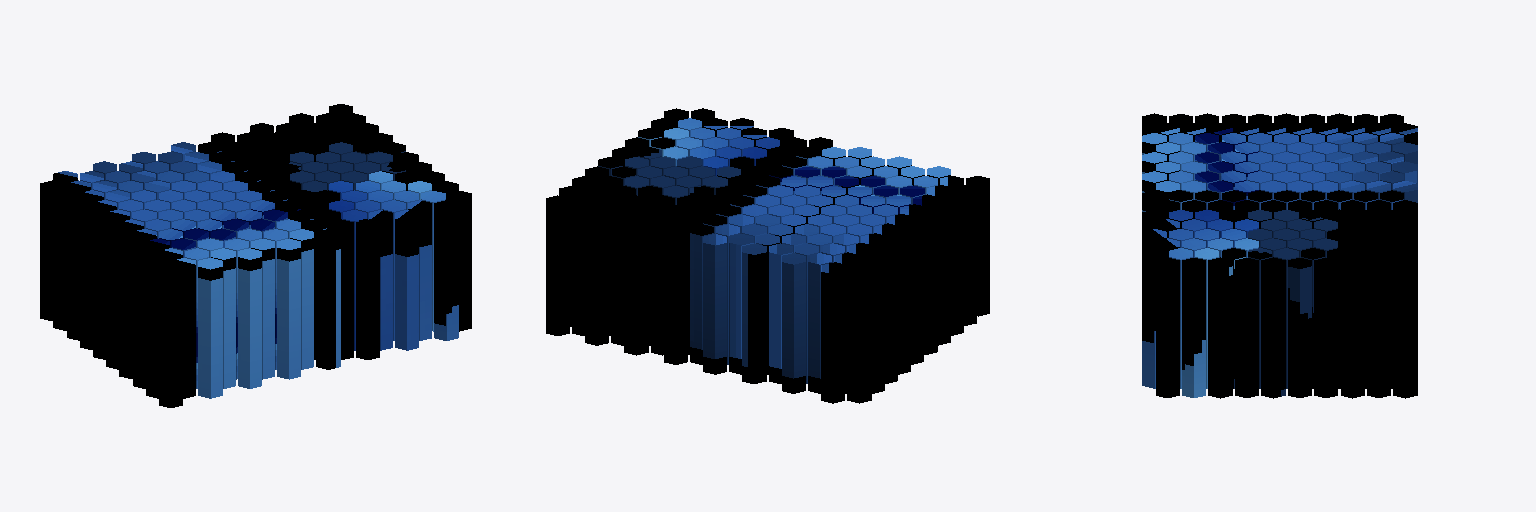
3 views of the same model, side by side, from view 1: azimuth 30°, elevation 25°; view 2: azimuth 150°, elevation 25°; view 3: azimuth 270°, elevation 25° (orthographic).
Parts seen in each view (by area): view 1: HexUVs; view 2: HexUVs; view 3: HexUVs.
Boxes of the visible parts, box(x1,y1,x2,y2) form: HexUVs: box(40, 104, 471, 407); HexUVs: box(546, 108, 989, 403); HexUVs: box(1142, 113, 1417, 398).
Size of the model in its own units: 6.98 by 2.7 by 5.21.
1 materials, 1 textured.